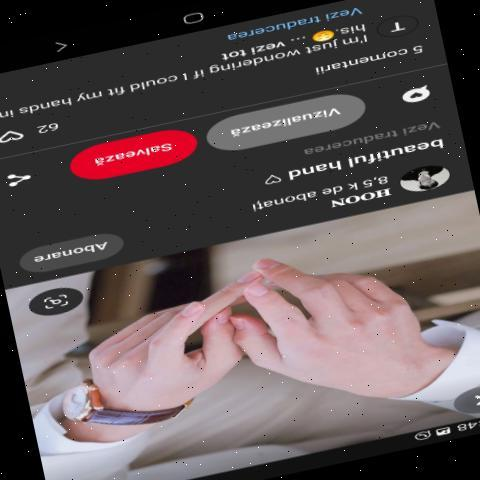Hands: (234, 246, 452, 403), (61, 280, 242, 404)
